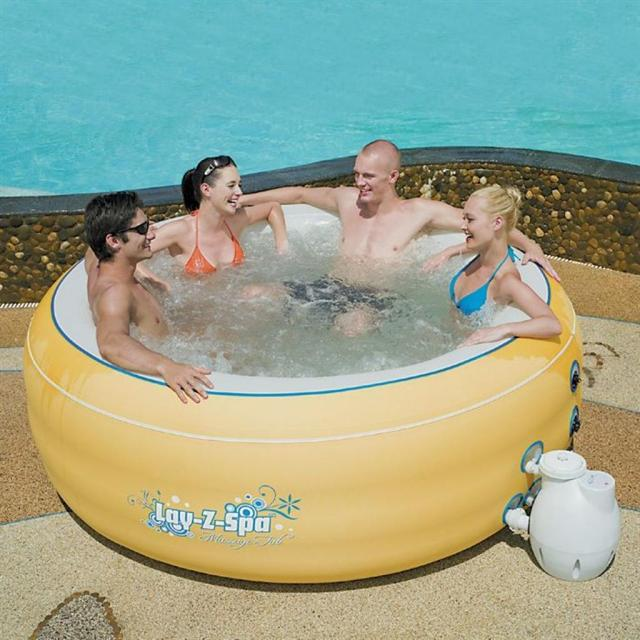nomask: (124, 207, 156, 259), (354, 153, 386, 203), (460, 198, 490, 248), (212, 167, 242, 215)
